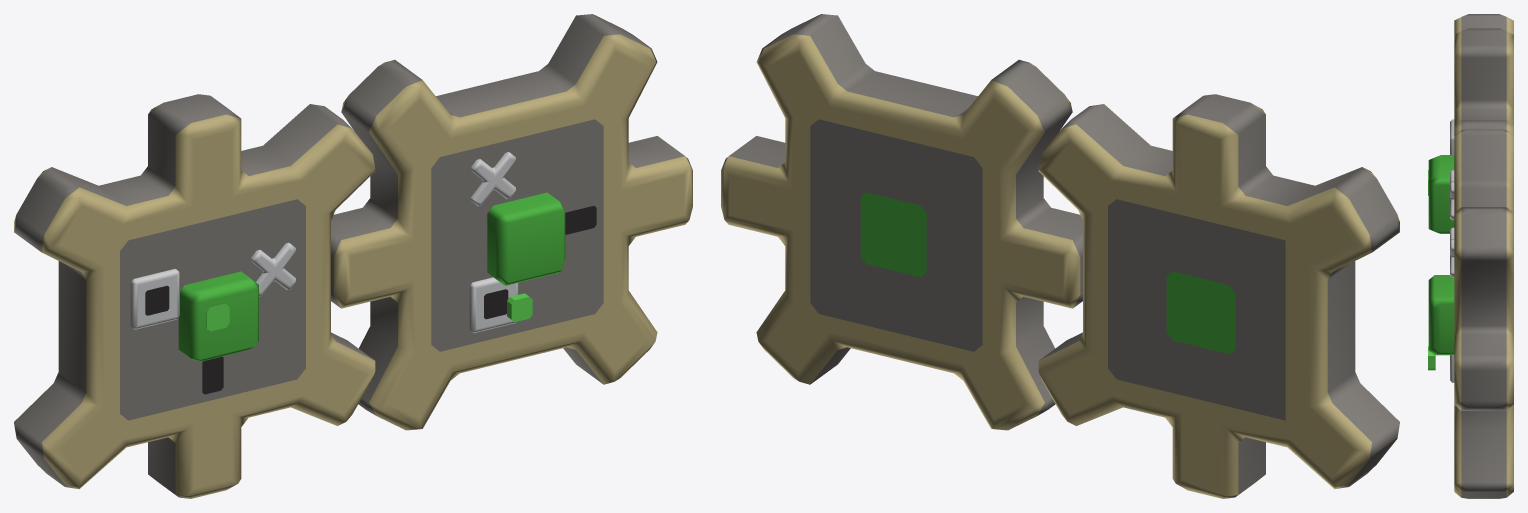
3 views of the same model, side by side, from view 1: azimuth 30°, elevation 25°; view 2: azimuth 150°, elevation 25°; view 3: azimuth 270°, elevation 25° (orthographic). The views are drawn at different scales.
Visible parts, largest first — view 1: model; view 2: model; view 3: model.
Boxes of the visible parts, x1=… form: model: x1=14, y1=14, x2=692, y2=498; model: x1=721, y1=14, x2=1399, y2=498; model: x1=1428, y1=14, x2=1513, y2=498.
Size of the model in its own units: 2.15 by 1.18 by 0.2984.
